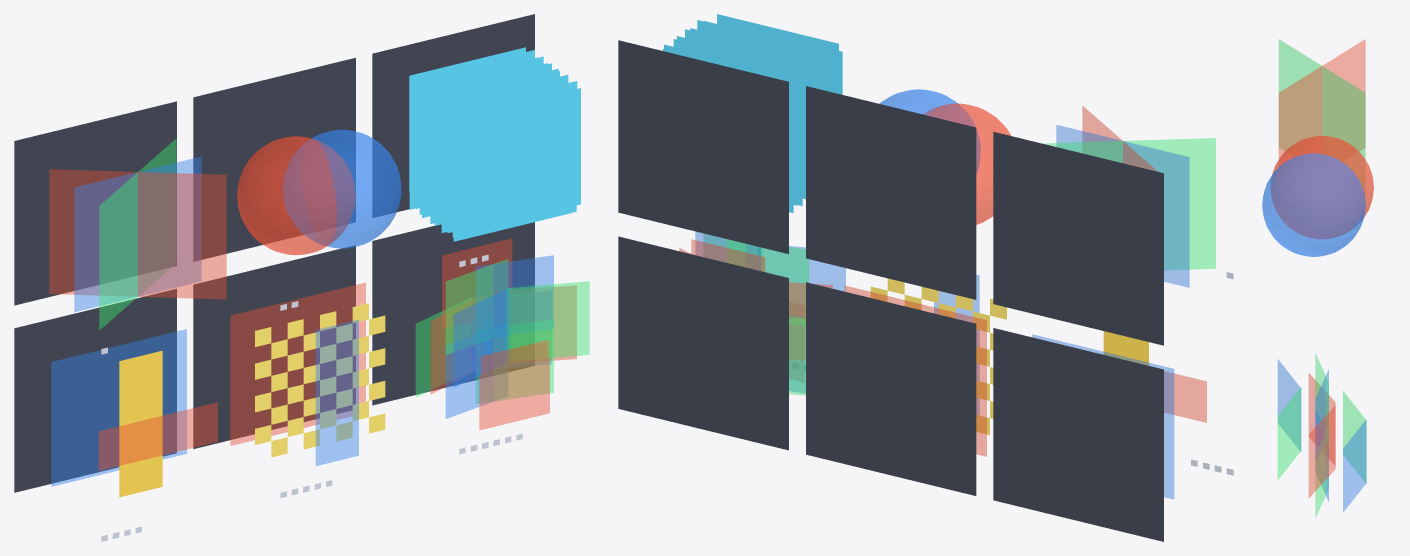
The model's file is oit-review.glb.
3 renders of one model, left to right at view 1: azimuth 30°, elevation 25°; view 2: azimuth 150°, elevation 25°; view 3: azimuth 270°, elevation 25°, orthographic. The views are drawn at different scales.
Parts seen in each view (by area): view 1: 1 intersecting sheet (×3), 1 background, 4 background, 5 background, 2 background, 6 background, 3 low alpha layer 31, 4 rear blue, 5 rear red, 2 blue shell, 2 red shell, 3 background (+29 smaller); view 2: 1 background, 4 background, 2 background, 3 background, 5 background, 6 background, 1 intersecting sheet (×3), 2 red shell, 5 checker occluder, 6 particle 04, 5 rear red, 6 particle 05 (+17 smaller); view 3: 1 intersecting sheet (×2), 2 blue shell, 2 red shell, 6 particle 00, 6 particle 05, 6 particle 01, 6 particle 11, 6 particle 07, 6 particle 06, 6 particle 02, 6 particle 04, 6 particle 10 (+1 smaller).
Part boxes in pixels (x1,y1,x2,y2): 1 intersecting sheet (×3): (49, 138, 226, 330); 1 background: (14, 101, 176, 305); 4 background: (14, 289, 176, 492); 5 background: (193, 245, 355, 448); 2 background: (193, 57, 355, 261); 6 background: (372, 222, 534, 405); 3 low alpha layer 31: (459, 88, 575, 232); 4 rear blue: (51, 329, 186, 486); 5 rear red: (230, 282, 365, 445); 2 blue shell: (283, 129, 401, 248); 2 red shell: (237, 136, 355, 255); 3 background: (372, 14, 534, 217); 1 background: (993, 131, 1163, 345); 4 background: (993, 328, 1163, 541); 2 background: (806, 86, 976, 299); 3 background: (618, 40, 788, 253); 5 background: (806, 282, 976, 495); 6 background: (618, 236, 788, 450); 1 intersecting sheet (×3): (1042, 105, 1215, 287); 2 red shell: (923, 103, 1011, 224); 5 checker occluder: (870, 278, 1006, 434); 6 particle 04: (727, 239, 808, 318); 5 rear red: (844, 285, 986, 456); 6 particle 05: (763, 246, 845, 291); 1 intersecting sheet (×2): (1278, 39, 1365, 159); 2 blue shell: (1262, 153, 1365, 256); 2 red shell: (1271, 136, 1373, 238); 6 particle 00: (1308, 405, 1335, 497); 6 particle 05: (1277, 359, 1301, 451); 6 particle 01: (1277, 387, 1301, 479); 6 particle 11: (1343, 419, 1366, 512); 6 particle 07: (1343, 391, 1366, 484); 6 particle 06: (1308, 373, 1335, 465); 6 particle 02: (1315, 369, 1328, 459); 6 particle 04: (1315, 353, 1328, 444); 6 particle 10: (1315, 433, 1328, 517).
Size of the model in its own units: 9.6 by 6.2 by 2.45.
Materials: 8 (1 with a texture image).
